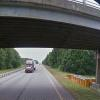Bridge: (5, 2, 98, 51)
